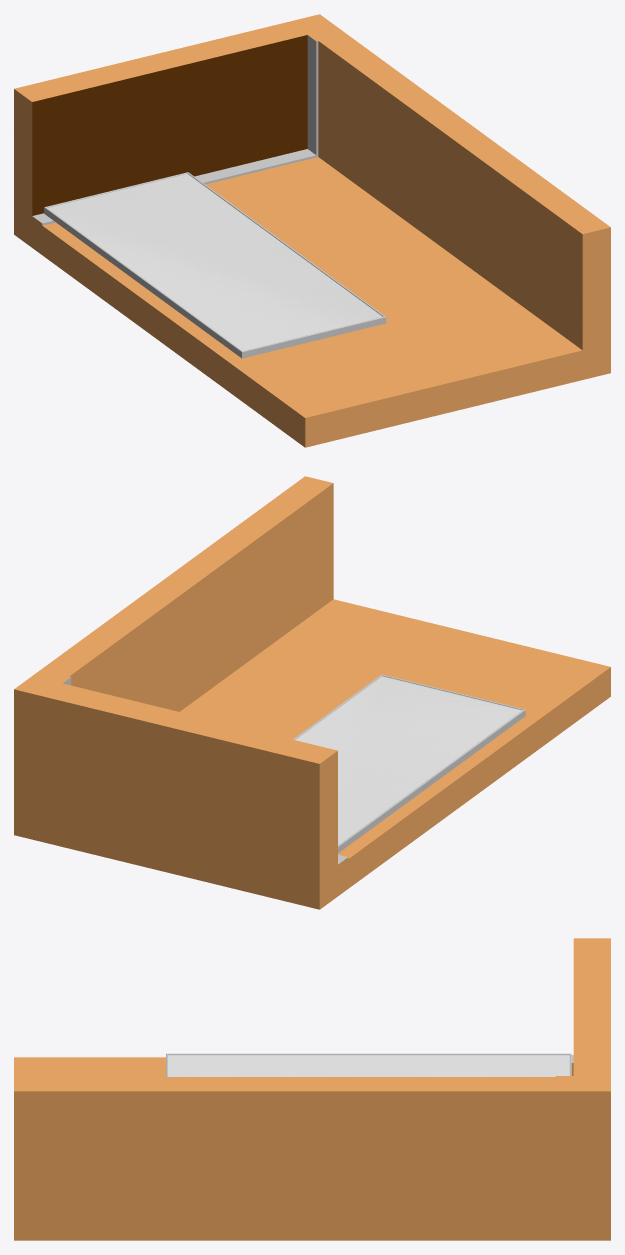
Rendered from Сборка.obj.
The picture shows the model from 3 angles, top to bottom: view 1: azimuth 30°, elevation 25°; view 2: azimuth 150°, elevation 25°; view 3: azimuth 270°, elevation 25°; orthographic projection. The views are drawn at different scales.
Size of the model in its own units: 1.94 by 0.884 by 3.2.
